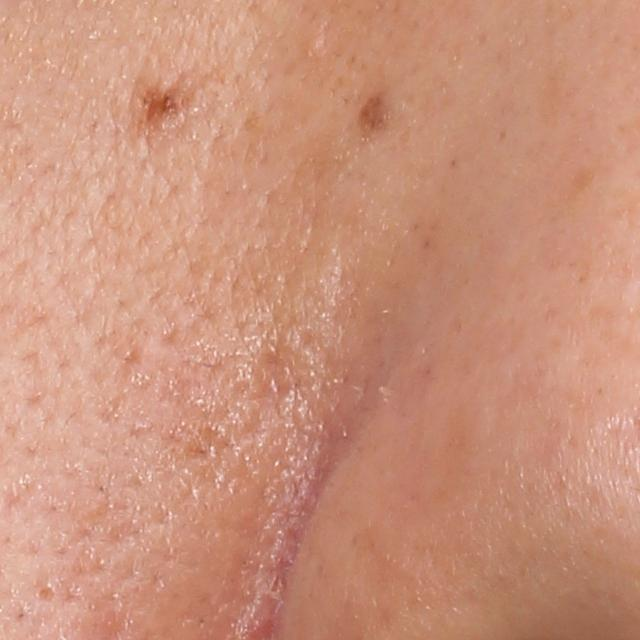comedo: (33, 579, 59, 605)
nevus: (139, 85, 195, 134), (358, 87, 391, 135)
